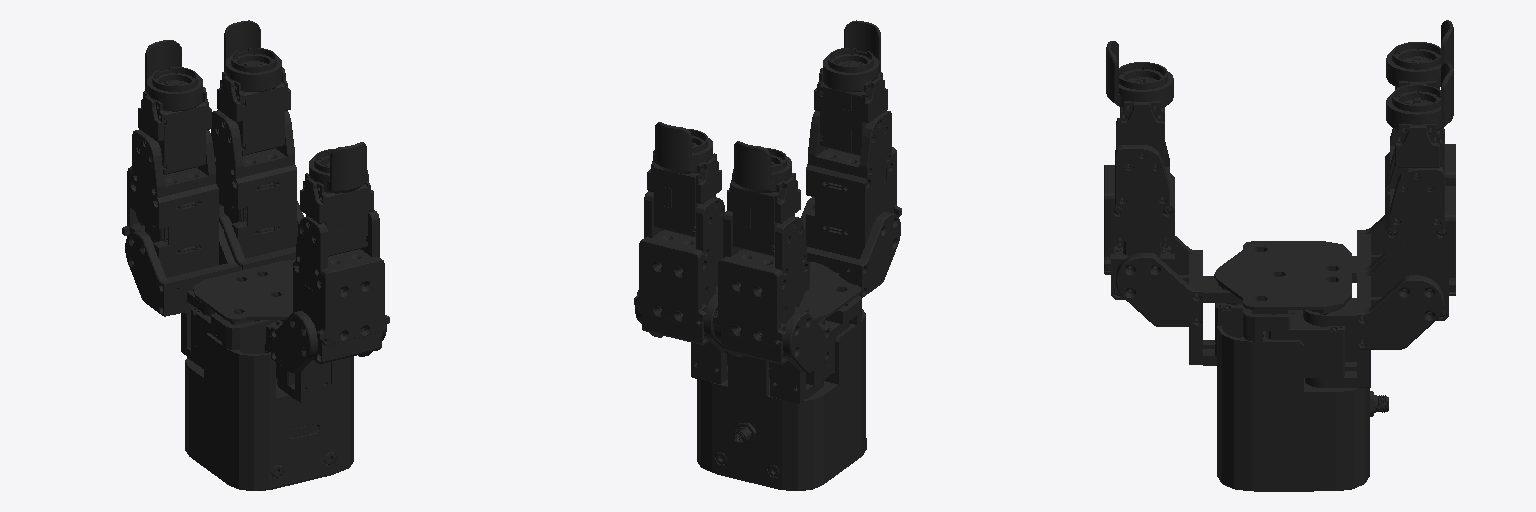
robot.urdf — allegro_hand_3F:
<?xml version="1.0" ?>
<!-- =================================================================================== -->
<!-- |    This document was autogenerated by xacro from allegro_hand_description_right.xacro | -->
<!-- |    EDITING THIS FILE BY HAND IS NOT RECOMMENDED                                 | -->
<!-- =================================================================================== -->
<robot name="allegro_hand_3F" xmlns:xacro="http://www.ros.org/wiki/xacro">
  <!-- ======================== BASE PARAMS ========================= -->
  <!-- ======================== FINGER PARAMS ======================== -->
  <!-- full height from joint to tip. when used,
    the radius of the finger tip sphere will be subtracted
    and one fixed link will be added for the tip. -->
  <!-- ========================= THUMB PARAMS ========================= -->
  <!-- ========================= LIMITS ========================= -->
  <!-- ============================================================================= -->
  <!-- PALM -->
 <link name="world"/>
  <joint name="global" type="fixed">
        <parent link="world"/>
        <child link="palm_link"/>
        <!--<origin xyz="0 0 0.095" rpy="0 0 0"/>-->
        <origin xyz="0 0 0.0" rpy="0 0 0"/>
  </joint>
  <link name="palm_link">
    <visual>
      <geometry>
        <mesh filename="package://allegro_hand_description/meshes/body.stl" scale="0.001 0.001 0.001"/>
      </geometry>
      <origin rpy="1.57 0 -1.57" xyz="0.000 0.006 -0.0472"/>
      <material name="black">
        <color rgba="0.2 0.2 0.2 1"/>
      </material>
    </visual>
    <collision>
      <geometry>
        <mesh filename="package://allegro_hand_description/meshes/body.stl" scale="0.001 0.001 0.001"/>
      </geometry>
      <origin rpy="1.57 0 -1.57" xyz="0.000 0.006 -0.0472"/>
    </collision>
    <inertial>
      <origin rpy="0 0 0" xyz="0 0 0.0475"/>
      <mass value="0.4154"/>
      <inertia ixx="1e-4" ixy="0.0" ixz="0.0" iyy="1e-4" iyz="0.0" izz="1e-4"/>
    </inertial>
  </link>

   <!-- INDEX -->
  <link name="link_0_0">
    <visual>
      <geometry>
        <mesh filename="package://allegro_hand_description/meshes/f1.stl" scale="0.001 0.001 0.001"/>
      </geometry>
      <origin rpy="3.14 0 -1.57" xyz="0.0225 -0.01575 -0.05263"/>
      <material name="black">
        <color rgba="0.2 0.2 0.2 1"/>
      </material>
    </visual>
    <collision>
      <geometry>
        <mesh filename="package://allegro_hand_description/meshes/f1.stl" scale="0.001 0.001 0.001"/>
      </geometry>
      <origin rpy="3.14 0 -1.57" xyz="0.0225 -0.01575 -0.05263"/>
    </collision>
    <inertial>
      <origin rpy="0 0 0" xyz="0 0 0.0475"/>
      <mass value="0.4154"/>
      <inertia ixx="1e-4" ixy="0.0" ixz="0.0" iyy="1e-4" iyz="0.0" izz="1e-4"/>
    </inertial>
  </link>
  <joint name="joint_0_0" type="revolute">
    <axis xyz="0 0 1"/>
    <limit effort="15" lower="-1.65" upper="0.1" velocity="7"/>
    <parent link="palm_link"/>
    <child link="link_0_0"/>
    <origin rpy="0 0 0" xyz="0.0225 0.019447 0.006263"/>
    <dynamics damping="3" friction="10"/>
  </joint>
    <link name="link_1_0">
    <visual>
      <geometry>
        <mesh filename="package://allegro_hand_description/meshes/f2.stl" scale="0.001 0.001 0.001"/>
      </geometry>
      <origin rpy="-1.57 0 -1.57" xyz="0.0 0 0"/>
      <material name="black">
        <color rgba="0.2 0.2 0.2 1"/>
      </material>
    </visual>
    <collision>
      <geometry>
        <mesh filename="package://allegro_hand_description/meshes/f2.stl" scale="0.001 0.001 0.001"/>
      </geometry>
      <origin rpy="-1.57 0 -1.57" xyz="0.0 0 0"/>
    </collision>
    <inertial>
      <origin rpy="0 0 0" xyz="0 0 0.0475"/>
      <mass value="0.4154"/>
      <inertia ixx="1e-4" ixy="0.0" ixz="0.0" iyy="1e-4" iyz="0.0" izz="1e-4"/>
    </inertial>
  </link>
  <joint name="joint_1_0" type="revolute">
    <axis xyz="1 0 0"/>
    <limit effort="15" lower="-1.75" upper="1.06" velocity="7"/>
    <parent link="link_0_0"/>
    <child link="link_1_0"/>
    <origin rpy="0 0 0" xyz="0.0 0.04175 0.00"/>
    <dynamics damping="3" friction="10"/>
  </joint>
      <link name="link_2_0">
    <visual>
      <geometry>
        <mesh filename="package://allegro_hand_description/meshes/f3.stl" scale="0.001 0.001 0.001"/>
      </geometry>
      <origin rpy="0 3.141592 1.57" xyz="0.0225 -0.05725 -0.1065"/>
      <material name="black">
        <color rgba="0.2 0.2 0.2 1"/>
      </material>
    </visual>
    <collision>
      <geometry>
        <mesh filename="package://allegro_hand_description/meshes/f3.stl" scale="0.001 0.001 0.001"/>
      </geometry>
      <origin rpy="0 3.14 1.57" xyz="0.0225 -0.05725 -0.1065"/>
    </collision>
    <inertial>
      <origin rpy="0 0 0" xyz="0 0 0.0475"/>
      <mass value="0.4154"/>
      <inertia ixx="1e-4" ixy="0.0" ixz="0.0" iyy="1e-4" iyz="0.0" izz="1e-4"/>
    </inertial>
  </link>
  <joint name="joint_2_0" type="revolute">
    <axis xyz="1 0 0"/>
    <limit effort="15" lower="-1.45" upper="1.45" velocity="7"/>
    <parent link="link_1_0"/>
    <child link="link_2_0"/>
    <origin rpy="0 0 0" xyz="0.0 0.00 0.05425"/>
    <dynamics damping="3" friction="10"/>
  </joint>
        <link name="link_2_0_tip">
    <visual>
      <geometry>
        <mesh filename="package://allegro_hand_description/meshes/f4.stl" scale="0.001 0.001 0.001"/>
      </geometry>
      <origin rpy="1.57 0 0" xyz="0.0005 0.0005 -0.019"/>
      <material name="white">
        <color rgba="0.9 0.9 0.9 1"/>
      </material>
    </visual>
    <collision>
      <geometry>
        <mesh filename="package://allegro_hand_description/meshes/f4.stl" scale="0.001 0.001 0.001"/>
      </geometry>
      <origin rpy="1.57 0 0" xyz="0.0005 0.0005 -0.019"/>
    </collision>
    <inertial>
      <origin rpy="0 0 0" xyz="0 0 0.0475"/>
      <mass value="0.4154"/>
      <inertia ixx="1e-4" ixy="0.0" ixz="0.0" iyy="1e-4" iyz="0.0" izz="1e-4"/>
    </inertial>
  </link>
  <joint name="joint_2_0_tip" type="fixed">
    <parent link="link_2_0"/>
    <child link="link_2_0_tip"/>
    <origin rpy="0 0 0" xyz="0.0 0.00 0.05425"/>
  </joint>
   <!-- MIDDLE -->
  <link name="link_3_0">
    <visual>
      <geometry>
        <mesh filename="package://allegro_hand_description/meshes/f1.stl" scale="0.001 0.001 0.001"/>
      </geometry>
      <origin rpy="3.14 0 -1.57" xyz="0.0225 -0.01575 -0.05263"/>
      <material name="black">
        <color rgba="0.2 0.2 0.2 1"/>
      </material>
    </visual>
    <collision>
      <geometry>
        <mesh filename="package://allegro_hand_description/meshes/f1.stl" scale="0.001 0.001 0.001"/>
      </geometry>
      <origin rpy="3.14 0 -1.57" xyz="0.0225 -0.01575 -0.05263"/>
    </collision>
    <inertial>
      <origin rpy="0 0 0" xyz="0 0 0.0475"/>
      <mass value="0.4154"/>
      <inertia ixx="1e-4" ixy="0.0" ixz="0.0" iyy="1e-4" iyz="0.0" izz="1e-4"/>
    </inertial>
  </link>
  <joint name="joint_3_0" type="revolute">
    <axis xyz="0 0 1"/>
    <limit effort="15" lower="-0.1" upper="1.65" velocity="7"/>
    <parent link="palm_link"/>
    <child link="link_3_0"/>
    <origin rpy="0 0 0" xyz="-0.0225 0.019447 0.006263"/>
    <dynamics damping="3" friction="10"/>
  </joint>
    <link name="link_4_0">
    <visual>
      <geometry>
        <mesh filename="package://allegro_hand_description/meshes/f2.stl" scale="0.001 0.001 0.001"/>
      </geometry>
      <origin rpy="-1.57 0 -1.57" xyz="0.0 0 0"/>
      <material name="black">
        <color rgba="0.2 0.2 0.2 1"/>
      </material>
    </visual>
    <collision>
      <geometry>
        <mesh filename="package://allegro_hand_description/meshes/f2.stl" scale="0.001 0.001 0.001"/>
      </geometry>
      <origin rpy="-1.57 0 -1.57" xyz="0.0 0 0"/>
    </collision>
    <inertial>
      <origin rpy="0 0 0" xyz="0 0 0.0475"/>
      <mass value="0.4154"/>
      <inertia ixx="1e-4" ixy="0.0" ixz="0.0" iyy="1e-4" iyz="0.0" izz="1e-4"/>
    </inertial>
  </link>
  <joint name="joint_4_0" type="revolute">
    <axis xyz="1 0 0"/>
    <limit effort="15" lower="-1.75" upper="1.06" velocity="7"/>
    <parent link="link_3_0"/>
    <child link="link_4_0"/>
    <origin rpy="0 0 0" xyz="0.0 0.04175 0.00"/>
    <dynamics damping="3" friction="10"/>
  </joint>
      <link name="link_5_0">
    <visual>
      <geometry>
        <mesh filename="package://allegro_hand_description/meshes/f3.stl" scale="0.001 0.001 0.001"/>
      </geometry>
      <origin rpy="0 3.141592 1.57" xyz="0.0225 -0.05725 -0.1065"/>
      <material name="black">
        <color rgba="0.2 0.2 0.2 1"/>
      </material>
    </visual>
    <collision>
      <geometry>
        <mesh filename="package://allegro_hand_description/meshes/f3.stl" scale="0.001 0.001 0.001"/>
      </geometry>
      <origin rpy="0 3.14 1.57" xyz="0.0225 -0.05725 -0.1065"/>
    </collision>
    <inertial>
      <origin rpy="0 0 0" xyz="0 0 0.0475"/>
      <mass value="0.4154"/>
      <inertia ixx="1e-4" ixy="0.0" ixz="0.0" iyy="1e-4" iyz="0.0" izz="1e-4"/>
    </inertial>
  </link>
  <joint name="joint_5_0" type="revolute">
    <axis xyz="1 0 0"/>
    <limit effort="15" lower="-1.45" upper="1.45" velocity="7"/>
    <parent link="link_4_0"/>
    <child link="link_5_0"/>
    <origin rpy="0 0 0" xyz="0.0 0.00 0.05425"/>
    <dynamics damping="3" friction="10"/>
  </joint>
        <link name="link_5_0_tip">
    <visual>
      <geometry>
        <mesh filename="package://allegro_hand_description/meshes/f4.stl" scale="0.001 0.001 0.001"/>
      </geometry>
      <origin rpy="1.57 0 0" xyz="0.0005 0.0005 -0.019"/>
      <material name="white">
        <color rgba="0.9 0.9 0.9 1"/>
      </material>
    </visual>
    <collision>
      <geometry>
        <mesh filename="package://allegro_hand_description/meshes/f4.stl" scale="0.001 0.001 0.001"/>
      </geometry>
      <origin rpy="1.57 0 0" xyz="0.0005 0.0005 -0.019"/>
    </collision>
    <inertial>
      <origin rpy="0 0 0" xyz="0 0 0.0475"/>
      <mass value="0.4154"/>
      <inertia ixx="1e-4" ixy="0.0" ixz="0.0" iyy="1e-4" iyz="0.0" izz="1e-4"/>
    </inertial>
  </link>
  <joint name="joint_5_0_tip" type="fixed">
    <parent link="link_5_0"/>
    <child link="link_5_0_tip"/>
    <origin rpy="0 0 0" xyz="0.0 0.00 0.05425"/>
  </joint>

     <!-- THUMB -->
  <link name="link_6_0">
    <visual>
      <geometry>
        <mesh filename="package://allegro_hand_description/meshes/f1.stl" scale="0.001 0.001 0.001"/>
      </geometry>
      <origin rpy="3.14 0 -1.57" xyz="0.0225 -0.01575 -0.05263"/>
      <material name="black">
        <color rgba="0.2 0.2 0.2 1"/>
      </material>
    </visual>
    <collision>
      <geometry>
        <mesh filename="package://allegro_hand_description/meshes/f1.stl" scale="0.001 0.001 0.001"/>
      </geometry>
      <origin rpy="3.14 0 -1.57" xyz="0.0225 -0.01575 -0.05263"/>
    </collision>
    <inertial>
      <origin rpy="0 0 0" xyz="0 0 0.0475"/>
      <mass value="0.4154"/>
      <inertia ixx="1e-4" ixy="0.0" ixz="0.0" iyy="1e-4" iyz="0.0" izz="1e-4"/>
    </inertial>
  </link>
  <joint name="joint_6_0" type="revolute">
    <axis xyz="0 0 1"/>
    <limit effort="15" lower="-0.6" upper="0.6" velocity="7"/>
    <parent link="palm_link"/>
    <child link="link_6_0"/>
    <origin rpy="0 0 3.14" xyz="0 -0.019447 0.006263"/>
    <dynamics damping="3" friction="10"/>
  </joint>
    <link name="link_7_0">
    <visual>
      <geometry>
        <mesh filename="package://allegro_hand_description/meshes/f2.stl" scale="0.001 0.001 0.001"/>
      </geometry>
      <origin rpy="-1.57 0 -1.57" xyz="0.0 0 0"/>
      <material name="black">
        <color rgba="0.2 0.2 0.2 1"/>
      </material>
    </visual>
    <collision>
      <geometry>
        <mesh filename="package://allegro_hand_description/meshes/f2.stl" scale="0.001 0.001 0.001"/>
      </geometry>
      <origin rpy="-1.57 0 -1.57" xyz="0.0 0 0"/>
    </collision>
    <inertial>
      <origin rpy="0 0 0" xyz="0 0 0.0475"/>
      <mass value="0.4154"/>
      <inertia ixx="1e-4" ixy="0.0" ixz="0.0" iyy="1e-4" iyz="0.0" izz="1e-4"/>
    </inertial>
  </link>
  <joint name="joint_7_0" type="revolute">
    <axis xyz="1 0 0"/>
    <limit effort="15" lower="-1.75" upper="1.06" velocity="7"/>
    <parent link="link_6_0"/>
    <child link="link_7_0"/>
    <origin rpy="0 0 0" xyz="0.0 0.04175 0.00"/>
    <dynamics damping="3" friction="10"/>
  </joint>
      <link name="link_8_0">
    <visual>
      <geometry>
        <mesh filename="package://allegro_hand_description/meshes/f3.stl" scale="0.001 0.001 0.001"/>
      </geometry>
      <origin rpy="0 3.141592 1.57" xyz="0.0225 -0.05725 -0.1065"/>
      <material name="black">
        <color rgba="0.2 0.2 0.2 1"/>
      </material>
    </visual>
    <collision>
      <geometry>
        <mesh filename="package://allegro_hand_description/meshes/f3.stl" scale="0.001 0.001 0.001"/>
      </geometry>
      <origin rpy="0 3.14 1.57" xyz="0.0225 -0.05725 -0.1065"/>
    </collision>
    <inertial>
      <origin rpy="0 0 0" xyz="0 0 0.0475"/>
      <mass value="0.4154"/>
      <inertia ixx="1e-4" ixy="0.0" ixz="0.0" iyy="1e-4" iyz="0.0" izz="1e-4"/>
    </inertial>
  </link>
  <joint name="joint_8_0" type="revolute">
    <axis xyz="1 0 0"/>
    <limit effort="15" lower="-1.45" upper="1.45" velocity="7"/>
    <parent link="link_7_0"/>
    <child link="link_8_0"/>
    <origin rpy="0 0 0" xyz="0.0 0.00 0.05425"/>
    <dynamics damping="3" friction="10"/>
  </joint>
        <link name="link_8_0_tip">
    <visual>
      <geometry>
        <mesh filename="package://allegro_hand_description/meshes/f4.stl" scale="0.001 0.001 0.001"/>
      </geometry>
      <origin rpy="1.57 0 0" xyz="0.0005 0.0005 -0.019"/>
      <material name="white">
        <color rgba="0.9 0.9 0.9 1"/>
      </material>
    </visual>
    <collision>
      <geometry>
        <mesh filename="package://allegro_hand_description/meshes/f4.stl" scale="0.001 0.001 0.001"/>
      </geometry>
      <origin rpy="1.57 0 0" xyz="0.0005 0.0005 -0.019"/>
    </collision>
    <inertial>
      <origin rpy="0 0 0" xyz="0 0 0.0475"/>
      <mass value="0.4154"/>
      <inertia ixx="1e-4" ixy="0.0" ixz="0.0" iyy="1e-4" iyz="0.0" izz="1e-4"/>
    </inertial>
  </link>
  <joint name="joint_8_0_tip" type="fixed">
    <parent link="link_8_0"/>
    <child link="link_8_0_tip"/>
    <origin rpy="0 0 0" xyz="0.0 0.00 0.05425"/>
  </joint>
</robot>

--- What the picture shows (computed from the rendered views, not written in the file) ---
3 views of the same robot in one strip: view 1: azimuth 30°, elevation 25°; view 2: azimuth 150°, elevation 25°; view 3: azimuth 270°, elevation 25° (orthographic).
Model allegro_hand_3F with 14 links and 13 joints (9 revolute, 4 fixed), rooted at world, posed all joints at 0.
Visible links, largest first — view 1: palm_link, link_7_0, link_4_0, link_1_0, link_2_0, link_5_0, link_8_0, link_3_0, link_6_0, link_0_0; view 2: palm_link, link_4_0, link_7_0, link_1_0, link_8_0, link_2_0, link_5_0, link_3_0, link_6_0, link_0_0; view 3: palm_link, link_1_0, link_7_0, link_0_0, link_6_0, link_8_0, link_2_0, link_5_0, link_3_0, link_4_0.
Link boxes in pixels (x1,y1,x2,y2): palm_link: (185,260,353,490); link_7_0: (293,210,389,363); link_4_0: (122,129,218,277); link_1_0: (211,110,297,258); link_2_0: (217,20,290,155); link_5_0: (138,40,211,174); link_8_0: (300,142,373,256); link_3_0: (125,222,240,368); link_6_0: (271,311,386,403); link_0_0: (219,201,303,270); palm_link: (697,262,866,490); link_4_0: (713,211,809,364); link_7_0: (806,110,901,258); link_1_0: (634,191,724,345); link_8_0: (814,20,887,155); link_2_0: (647,122,721,237); link_5_0: (727,141,800,256); link_3_0: (714,309,829,403); link_6_0: (800,197,900,297); link_0_0: (635,290,729,383); palm_link: (1214,241,1388,491); link_1_0: (1385,139,1455,320); link_7_0: (1104,118,1174,299); link_0_0: (1303,258,1443,387); link_6_0: (1116,236,1242,365); link_8_0: (1106,41,1173,166); link_2_0: (1386,63,1453,186); link_5_0: (1386,20,1453,89); link_3_0: (1352,215,1384,282); link_4_0: (1385,127,1455,197).
Size in the robot's own frame: 0.0891 by 0.1569 by 0.2039 metres.
10 mesh visuals loaded from 5 distinct referenced files (4 binary STL); not drawn: 3 (reference not matched to a file when rendering).